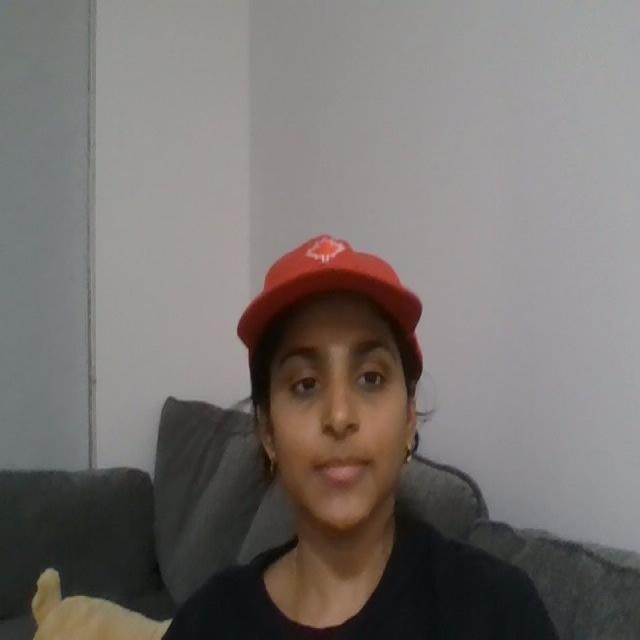Hat: (225, 193, 432, 344)
